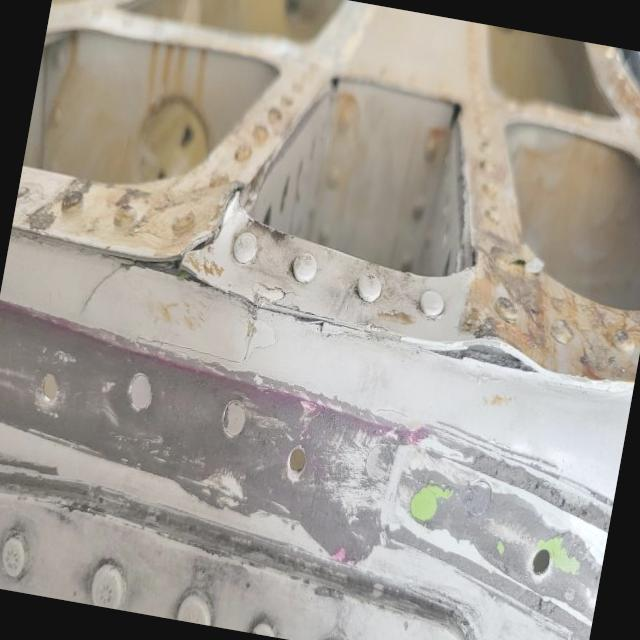Missing Fastener: (394, 476, 458, 540), (102, 362, 169, 423), (15, 358, 74, 422), (513, 534, 568, 588), (205, 394, 260, 447), (268, 441, 316, 486)
